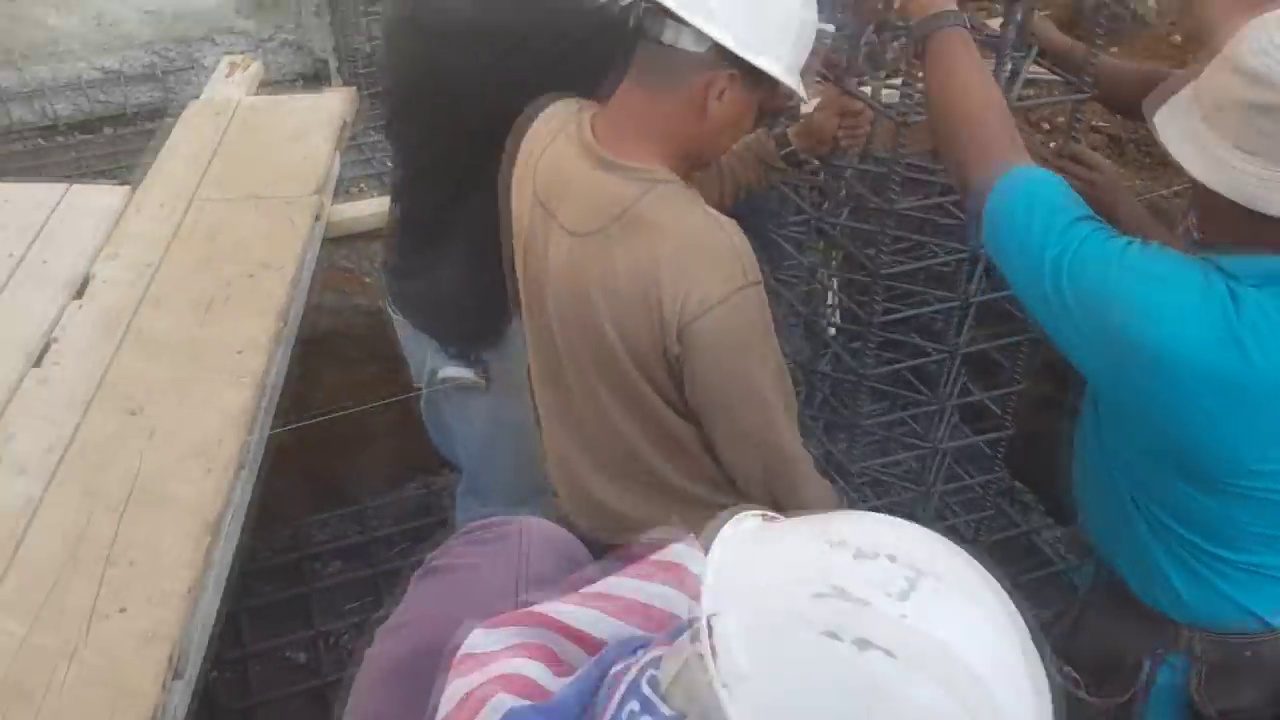helmet: (699, 511, 1069, 720), (655, 0, 818, 111)
helmet-off: (1152, 12, 1280, 250)
helmet-on: (577, 508, 1064, 713), (562, 1, 814, 171)
person: (435, 10, 892, 642), (918, 3, 1280, 720), (312, 473, 1071, 719), (367, 4, 662, 532)
